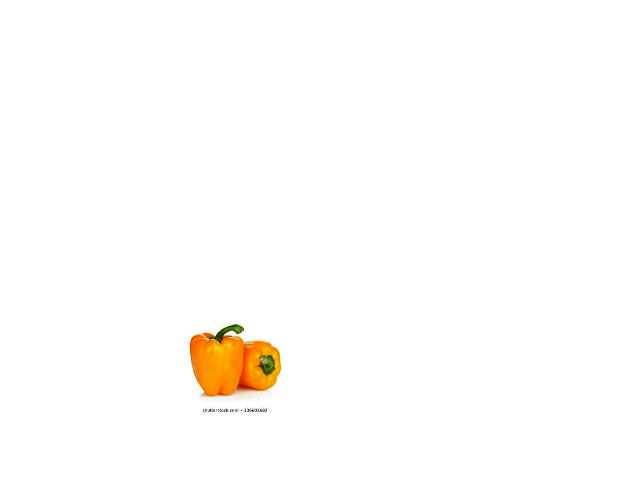bell_pepper: (236, 337, 281, 392)
